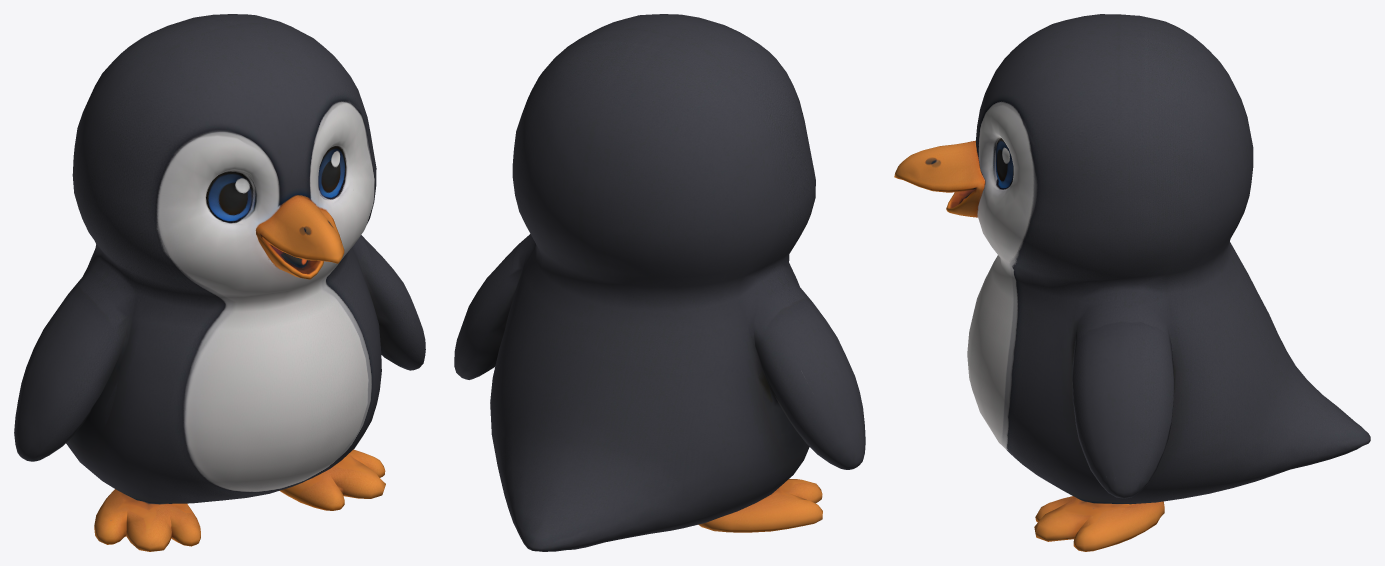
The model's file is cute penguin 3d model.glb.
3 renders of one model, left to right at view 1: azimuth 30°, elevation 25°; view 2: azimuth 150°, elevation 25°; view 3: azimuth 270°, elevation 25°, orthographic. The views are drawn at different scales.
Visible parts, largest first — view 1: tripo_node_3acc6a28-943d-4fd7-9f98-49eb41510b1d; view 2: tripo_node_3acc6a28-943d-4fd7-9f98-49eb41510b1d; view 3: tripo_node_3acc6a28-943d-4fd7-9f98-49eb41510b1d.
Part boxes in pixels (bbox=[...]): tripo_node_3acc6a28-943d-4fd7-9f98-49eb41510b1d: bbox=[14, 14, 425, 551]; tripo_node_3acc6a28-943d-4fd7-9f98-49eb41510b1d: bbox=[454, 14, 865, 551]; tripo_node_3acc6a28-943d-4fd7-9f98-49eb41510b1d: bbox=[894, 14, 1370, 551].
Size of the model in its own units: 0.8926 by 0.998 by 0.9434.
Materials: 1 (1 with a texture image).
